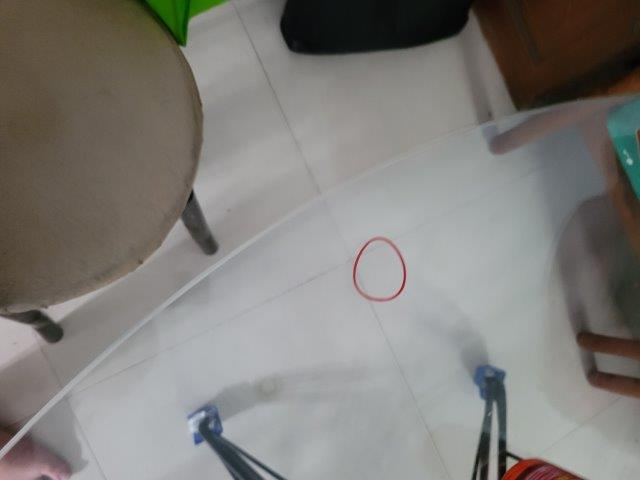karet: (351, 237, 408, 302)
